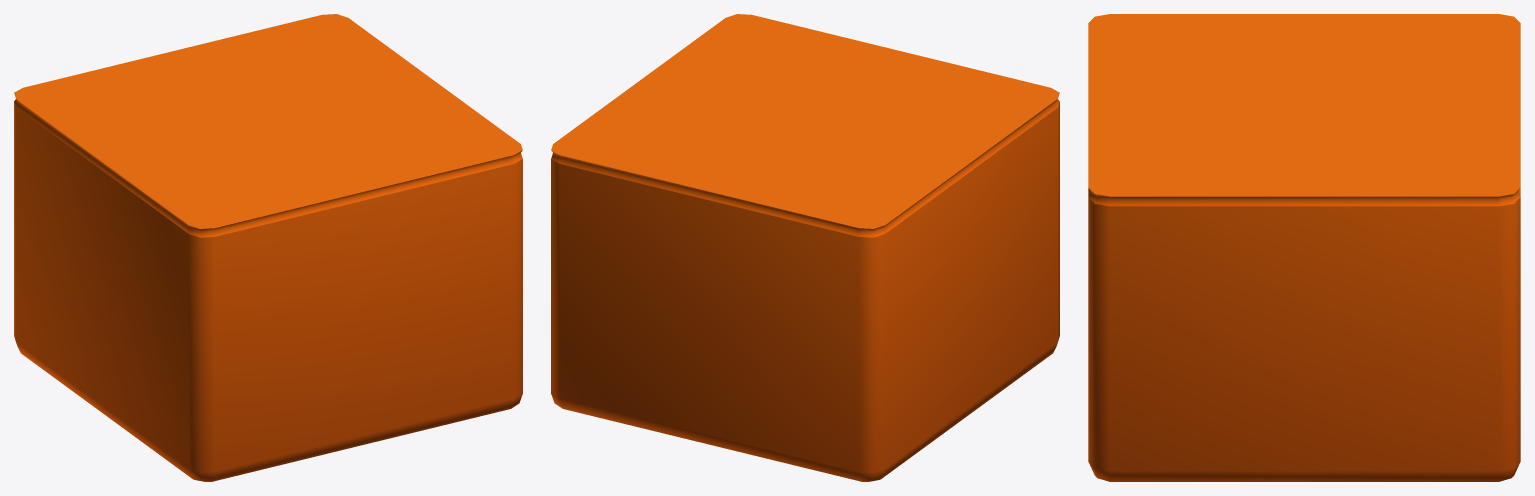
File: 3D_Tile_Socket_Ground_02.fbx
3 renders of one model, left to right at view 1: azimuth 30°, elevation 25°; view 2: azimuth 150°, elevation 25°; view 3: azimuth 270°, elevation 25°, orthographic. The views are drawn at different scales.
Parts seen in each view (by area): view 1: 3D_Tile_Socket_Ground_02; view 2: 3D_Tile_Socket_Ground_02; view 3: 3D_Tile_Socket_Ground_02.
Boxes of the visible parts, bbox=[...] form: 3D_Tile_Socket_Ground_02: bbox=[14, 14, 522, 481]; 3D_Tile_Socket_Ground_02: bbox=[551, 14, 1059, 481]; 3D_Tile_Socket_Ground_02: bbox=[1088, 14, 1520, 481].
Size of the model in its own units: 200 by 150 by 200.
